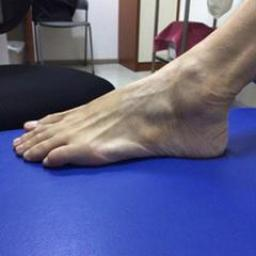Lateral View -Left Foot-: (10, 48, 252, 177)
